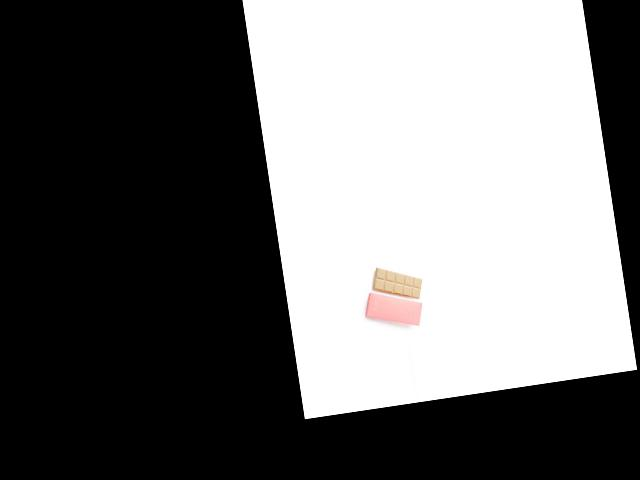chocolate: (367, 261, 426, 308)
